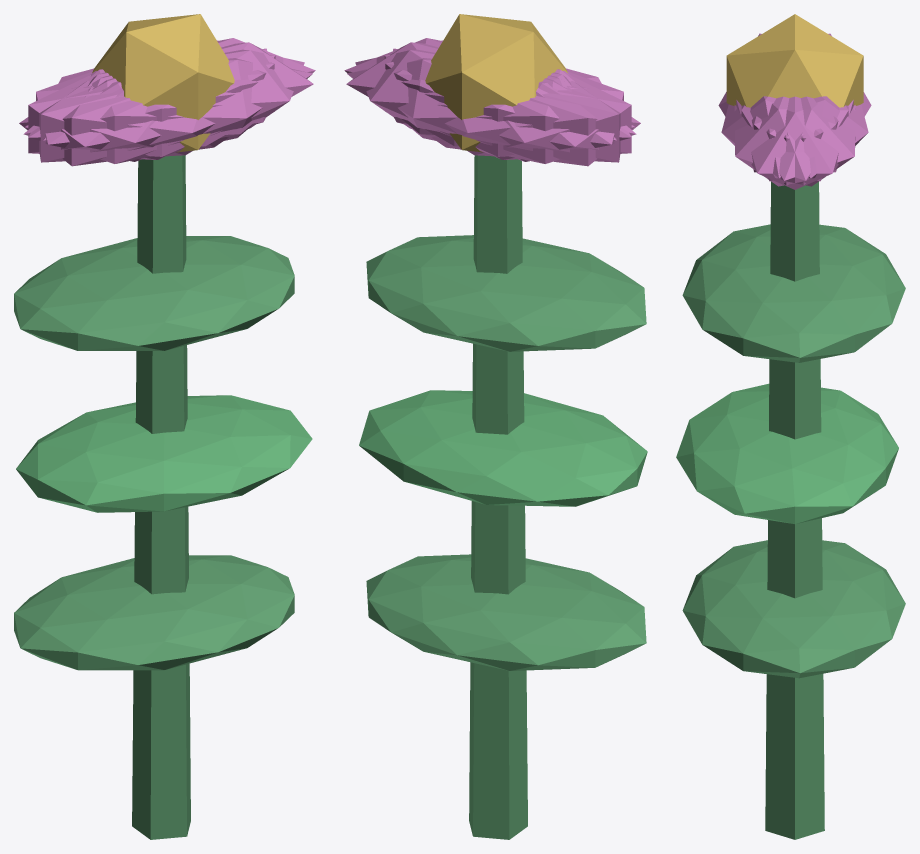
Rendered from chrysophyllum-cainito.glb.
The picture shows the model from 3 angles, left to right: view 1: azimuth 30°, elevation 25°; view 2: azimuth 150°, elevation 25°; view 3: azimuth 270°, elevation 25°; orthographic projection.
Visible parts, largest first — view 1: leaf1, stem, leaf2, leaf0, center, petal1, petal6, petal2, petal5, petal7, petal0, petal4 (+2 smaller); view 2: stem, leaf2, leaf1, leaf0, center, petal8, petal3, petal7, petal4, petal2, petal0, petal5 (+2 smaller); view 3: stem, leaf2, leaf1, leaf0, center, petal0, petal4, petal5, petal1, petal8.
Part boxes in pixels (box(x1,y1,x2,y2)): leaf1: box(16, 395, 312, 512); stem: box(132, 155, 190, 839); leaf2: box(14, 236, 294, 350); leaf0: box(14, 555, 294, 670); center: box(92, 14, 234, 152); petal1: box(23, 58, 312, 163); petal6: box(19, 71, 228, 166); petal2: box(39, 48, 266, 162); petal5: box(43, 49, 304, 156); petal7: box(28, 54, 275, 159); petal0: box(92, 42, 313, 146); petal4: box(25, 38, 315, 137); stem: box(469, 155, 527, 839); leaf2: box(366, 235, 646, 351); leaf1: box(359, 390, 647, 506); leaf0: box(366, 554, 646, 670); center: box(425, 14, 567, 152); petal8: box(347, 58, 636, 163); petal3: box(431, 71, 640, 166); petal7: box(393, 48, 620, 162); petal4: box(355, 49, 616, 156); petal2: box(384, 54, 631, 159); petal0: box(346, 42, 568, 146); petal5: box(344, 38, 634, 137); stem: box(765, 181, 824, 839); leaf2: box(682, 224, 905, 362); leaf1: box(676, 383, 898, 523); leaf0: box(682, 540, 905, 678); center: box(726, 14, 863, 107); petal0: box(736, 96, 853, 189); petal4: box(741, 96, 855, 186); petal5: box(734, 96, 848, 186); petal1: box(721, 96, 838, 178); petal8: box(751, 96, 868, 178).
Size of the model in its own units: 0.1497 by 0.3921 by 0.1028.
